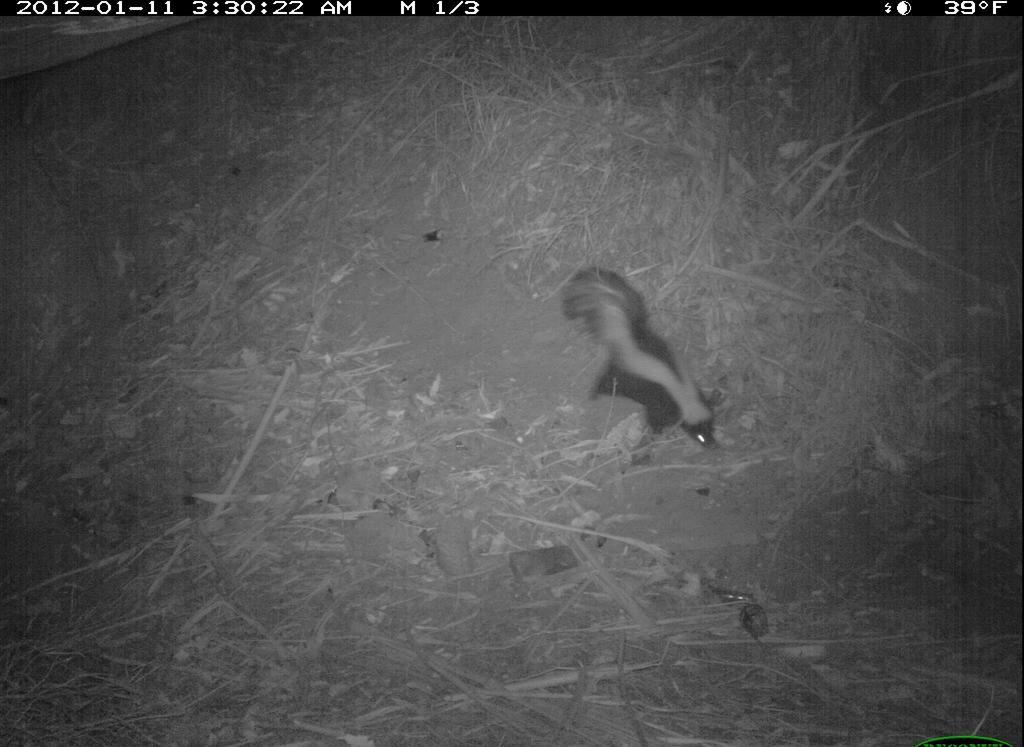skunk: (557, 253, 732, 465)
